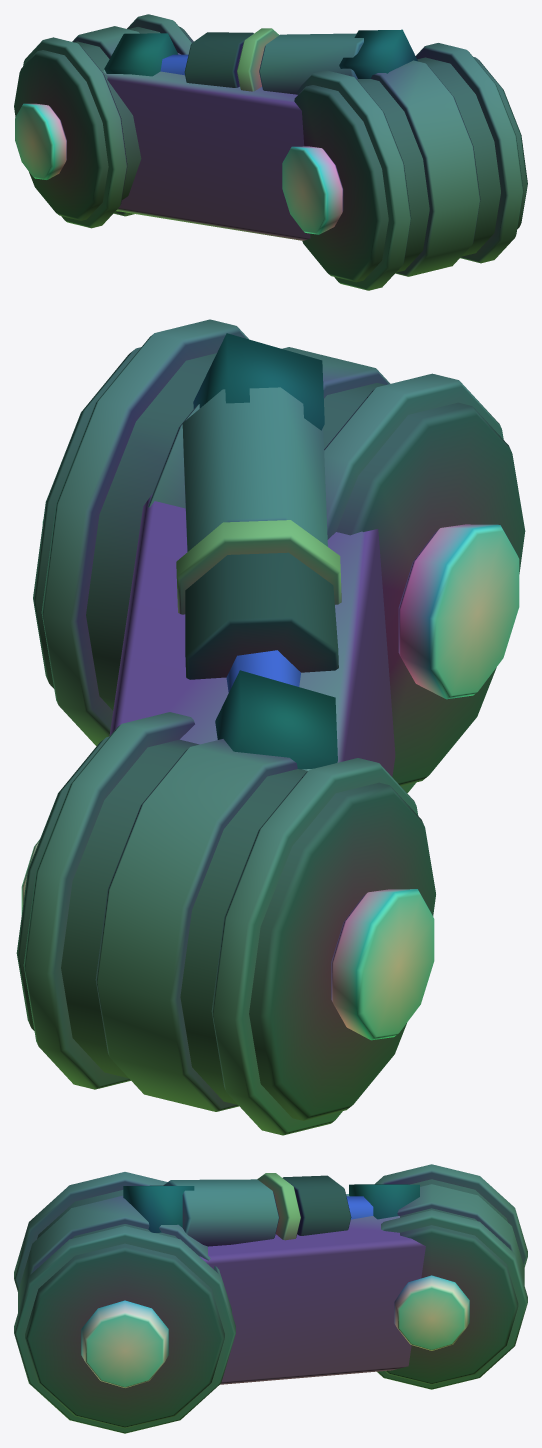
The model's file is kit_boss_arm_boom_l.glb.
The picture shows the model from 3 angles, top to bottom: view 1: azimuth 30°, elevation 25°; view 2: azimuth 150°, elevation 25°; view 3: azimuth 270°, elevation 25°; orthographic projection. The views are drawn at different scales.
Visible parts, largest first — view 1: Body__dark, Body__gunmetal, Body__armor, Body__chrome, Body__rubber, Body__brass; view 2: Body__dark, Body__gunmetal, Body__chrome, Body__armor, Body__rubber, Body__brass; view 3: Body__dark, Body__gunmetal, Body__armor, Body__chrome, Body__rubber, Body__brass.
Part boxes in pixels (bbox=[...]): Body__dark: bbox=[14, 26, 527, 282]; Body__gunmetal: bbox=[23, 14, 523, 290]; Body__armor: bbox=[103, 53, 310, 240]; Body__chrome: bbox=[15, 54, 522, 234]; Body__rubber: bbox=[184, 32, 253, 87]; Body__brass: bbox=[237, 28, 279, 91]; Body__dark: bbox=[16, 333, 525, 1120]; Body__gunmetal: bbox=[23, 319, 503, 1135]; Body__chrome: bbox=[21, 520, 519, 1040]; Body__armor: bbox=[109, 493, 395, 776]; Body__rubber: bbox=[185, 552, 338, 679]; Body__brass: bbox=[176, 520, 341, 614]; Body__dark: bbox=[25, 1179, 518, 1428]; Body__gunmetal: bbox=[14, 1164, 527, 1433]; Body__armor: bbox=[199, 1194, 425, 1384]; Body__chrome: bbox=[81, 1196, 469, 1387]; Body__rubber: bbox=[283, 1175, 351, 1235]; Body__brass: bbox=[257, 1173, 300, 1240].
Bounding box in the file's own units: 0.5416 × 0.407 × 0.7708.
